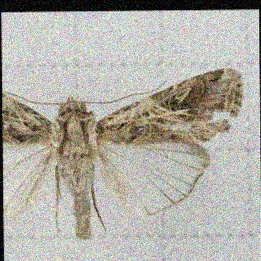Spodoptera litura: (3, 68, 246, 240)
